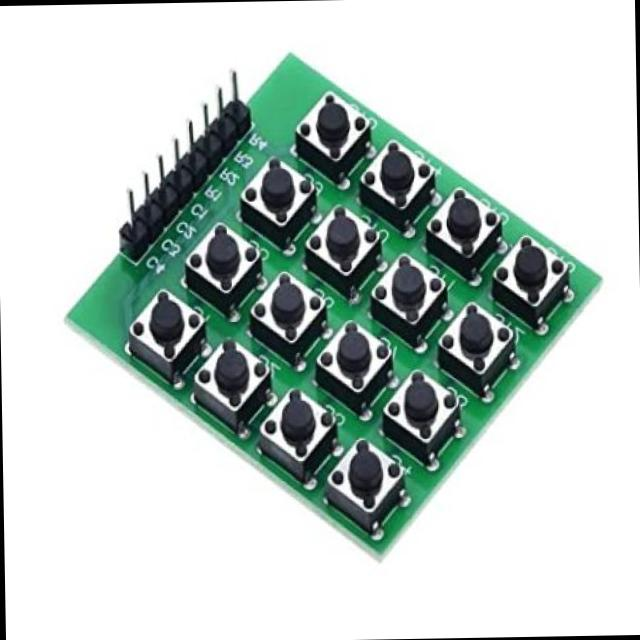connector: (107, 72, 250, 234)
